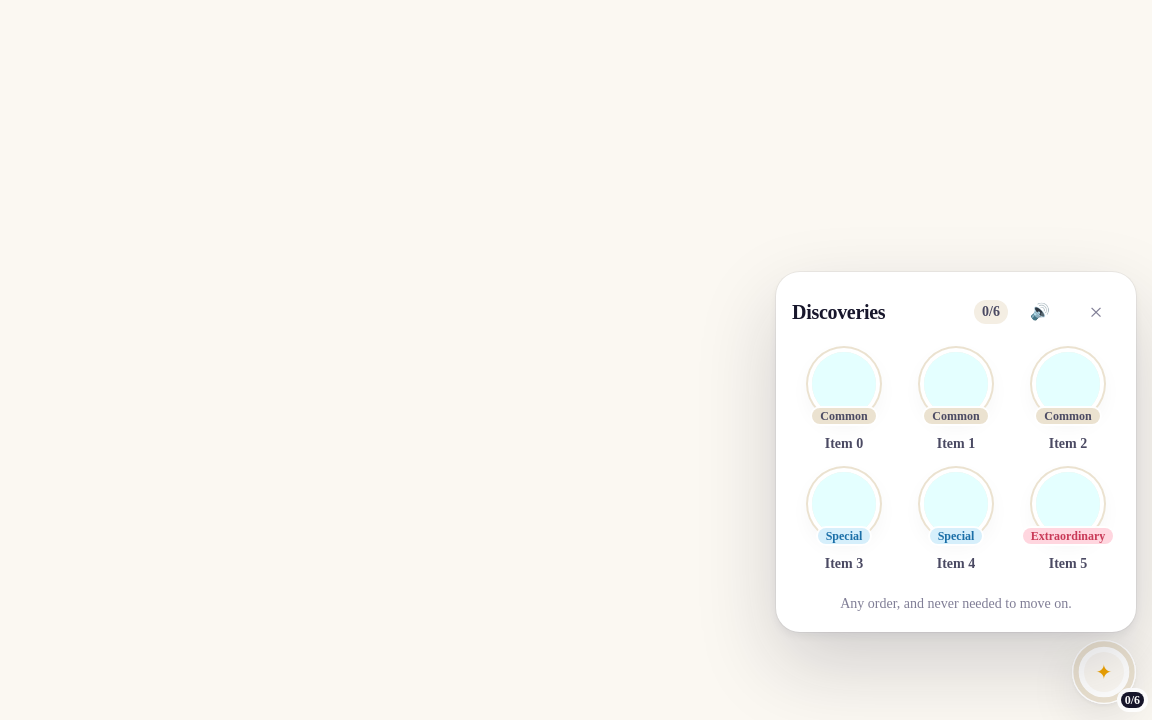
the discovery tray › hands the tray over to a tap made during the peek instead of closing it
expect the element with class "collect__sheet--peek" is shown: met, box [776, 272, 1136, 632]
Click the button named "Discoveries: 0 of 6 collected" at (1104, 672), box [1072, 640, 1136, 704]
Wait 2400 ms
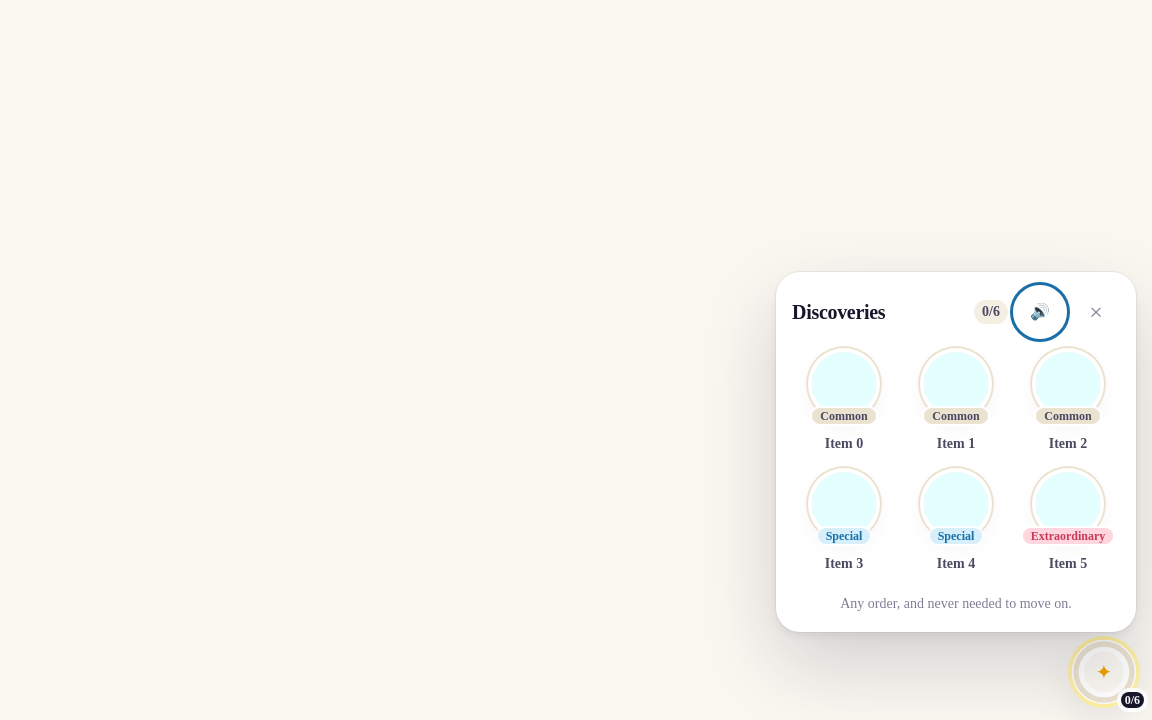
expect the dialog is shown: met, box [776, 272, 1136, 632]
